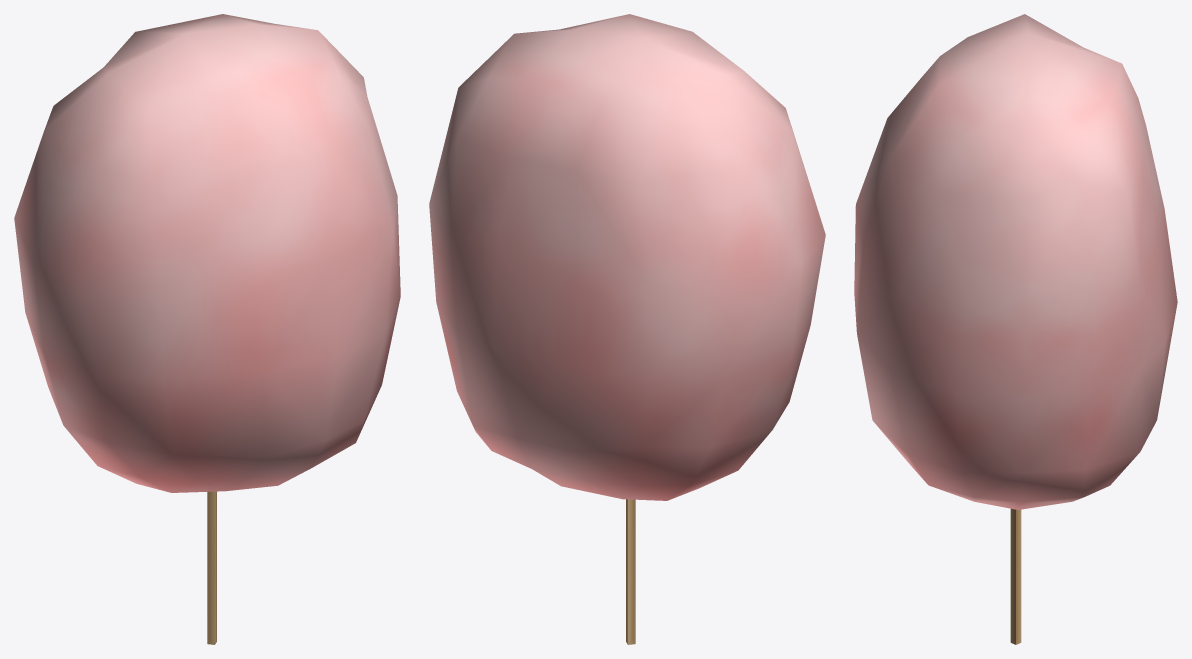
The model's file is jsf_CottonCandy_02L.fbx.
3 views of the same model, side by side, from view 1: azimuth 30°, elevation 25°; view 2: azimuth 150°, elevation 25°; view 3: azimuth 270°, elevation 25° (orthographic). The views are drawn at different scales.
Visible parts, largest first — view 1: jsf_CottonCandy_02L; view 2: jsf_CottonCandy_02L; view 3: jsf_CottonCandy_02L.
Part boxes in pixels (x1,y1,x2,y2): jsf_CottonCandy_02L: (14,14,400,644); jsf_CottonCandy_02L: (429,14,825,644); jsf_CottonCandy_02L: (854,14,1177,644).
Bounding box in the file's own units: 25.91 × 43.4 × 21.21.
